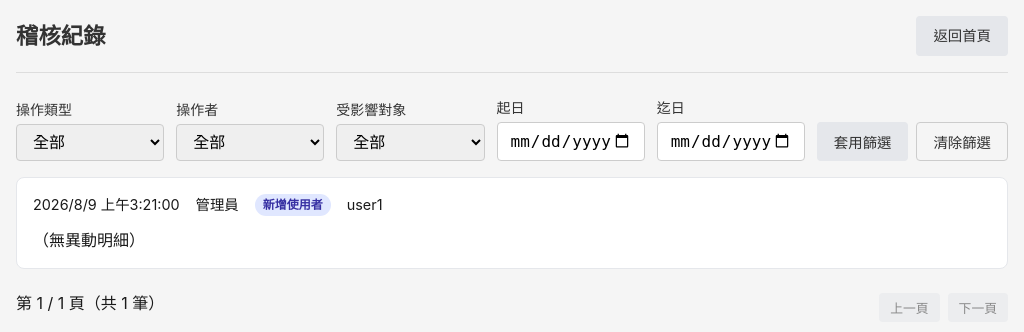
Test: AuditLogPage › AC-17: 五態 › Empty 態（篩選導致空集合）：文案與「尚無任何稽核紀錄」可區辨
expect the text "user1" is shown: met, box 347,194 -> 383,215
Select "新增使用者" in the dropdown labelled "操作類型" at (90, 142), box 16,124 -> 164,161
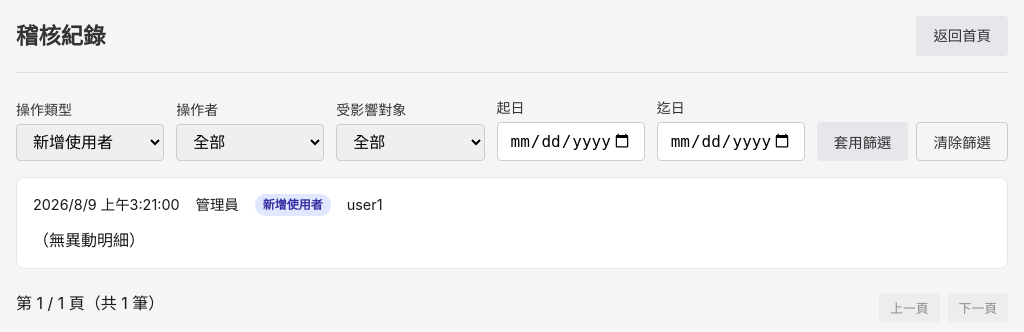
Click the button "套用篩選" at (863, 141), box 817,122 -> 908,161
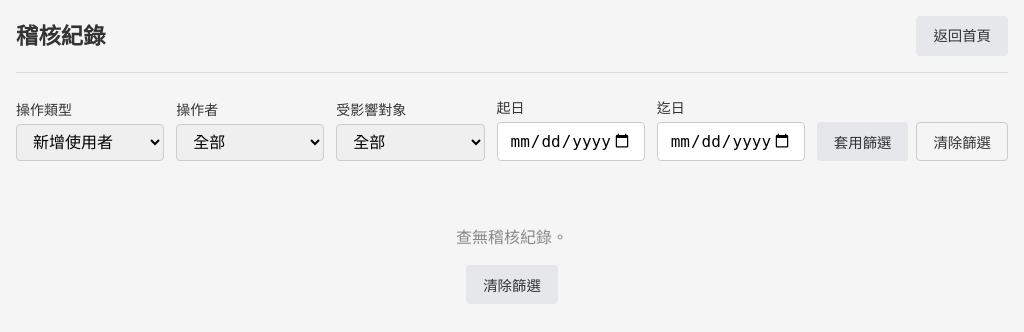
expect the text "查無稽核紀錄。" is shown: met, box 456,227 -> 568,247
